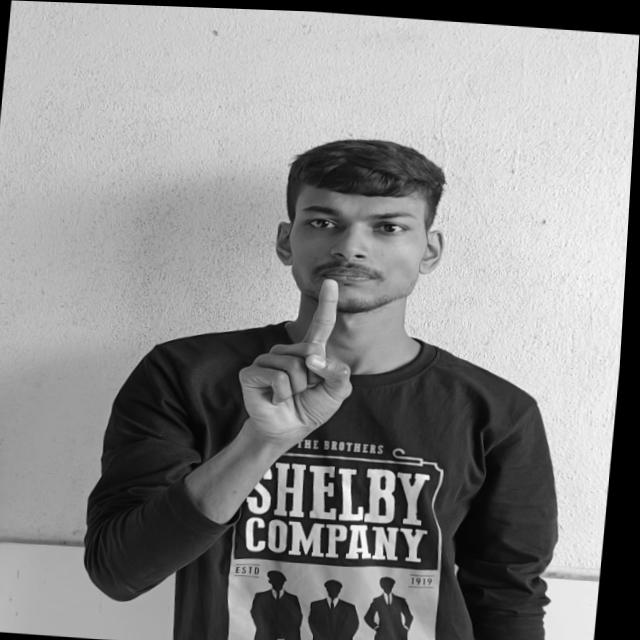Question: (237, 271, 373, 432)
